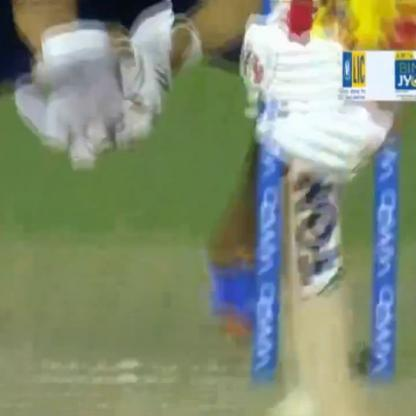ball: (261, 370, 314, 416)
bat: (213, 8, 380, 416)
